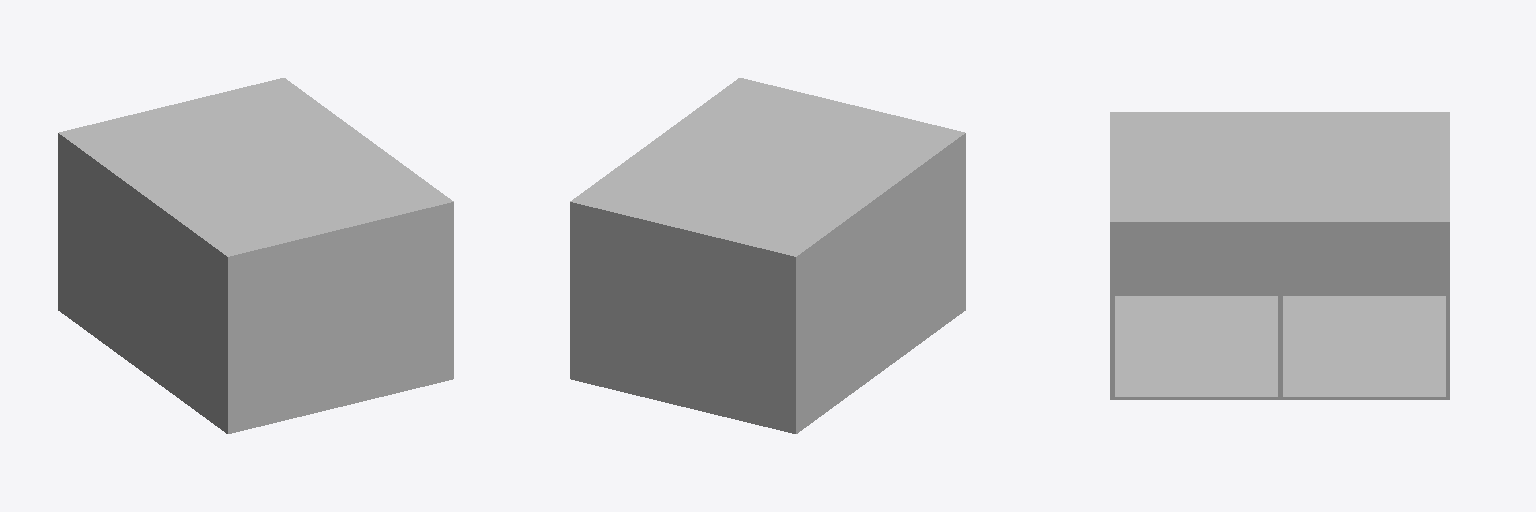
Rendered from house50.obj.
The picture shows the model from 3 angles: view 1: azimuth 30°, elevation 25°; view 2: azimuth 150°, elevation 25°; view 3: azimuth 270°, elevation 25°; orthographic projection.
Parts seen in each view (by area): view 1: 立方体.074; view 2: 立方体.074; view 3: 立方体.074.
Boxes of the visible parts, x1=… form: 立方体.074: x1=58, y1=78, x2=453, y2=433; 立方体.074: x1=570, y1=78, x2=965, y2=433; 立方体.074: x1=1110, y1=112, x2=1449, y2=399.
Bounding box in the file's own units: 8 × 6 × 10.4.